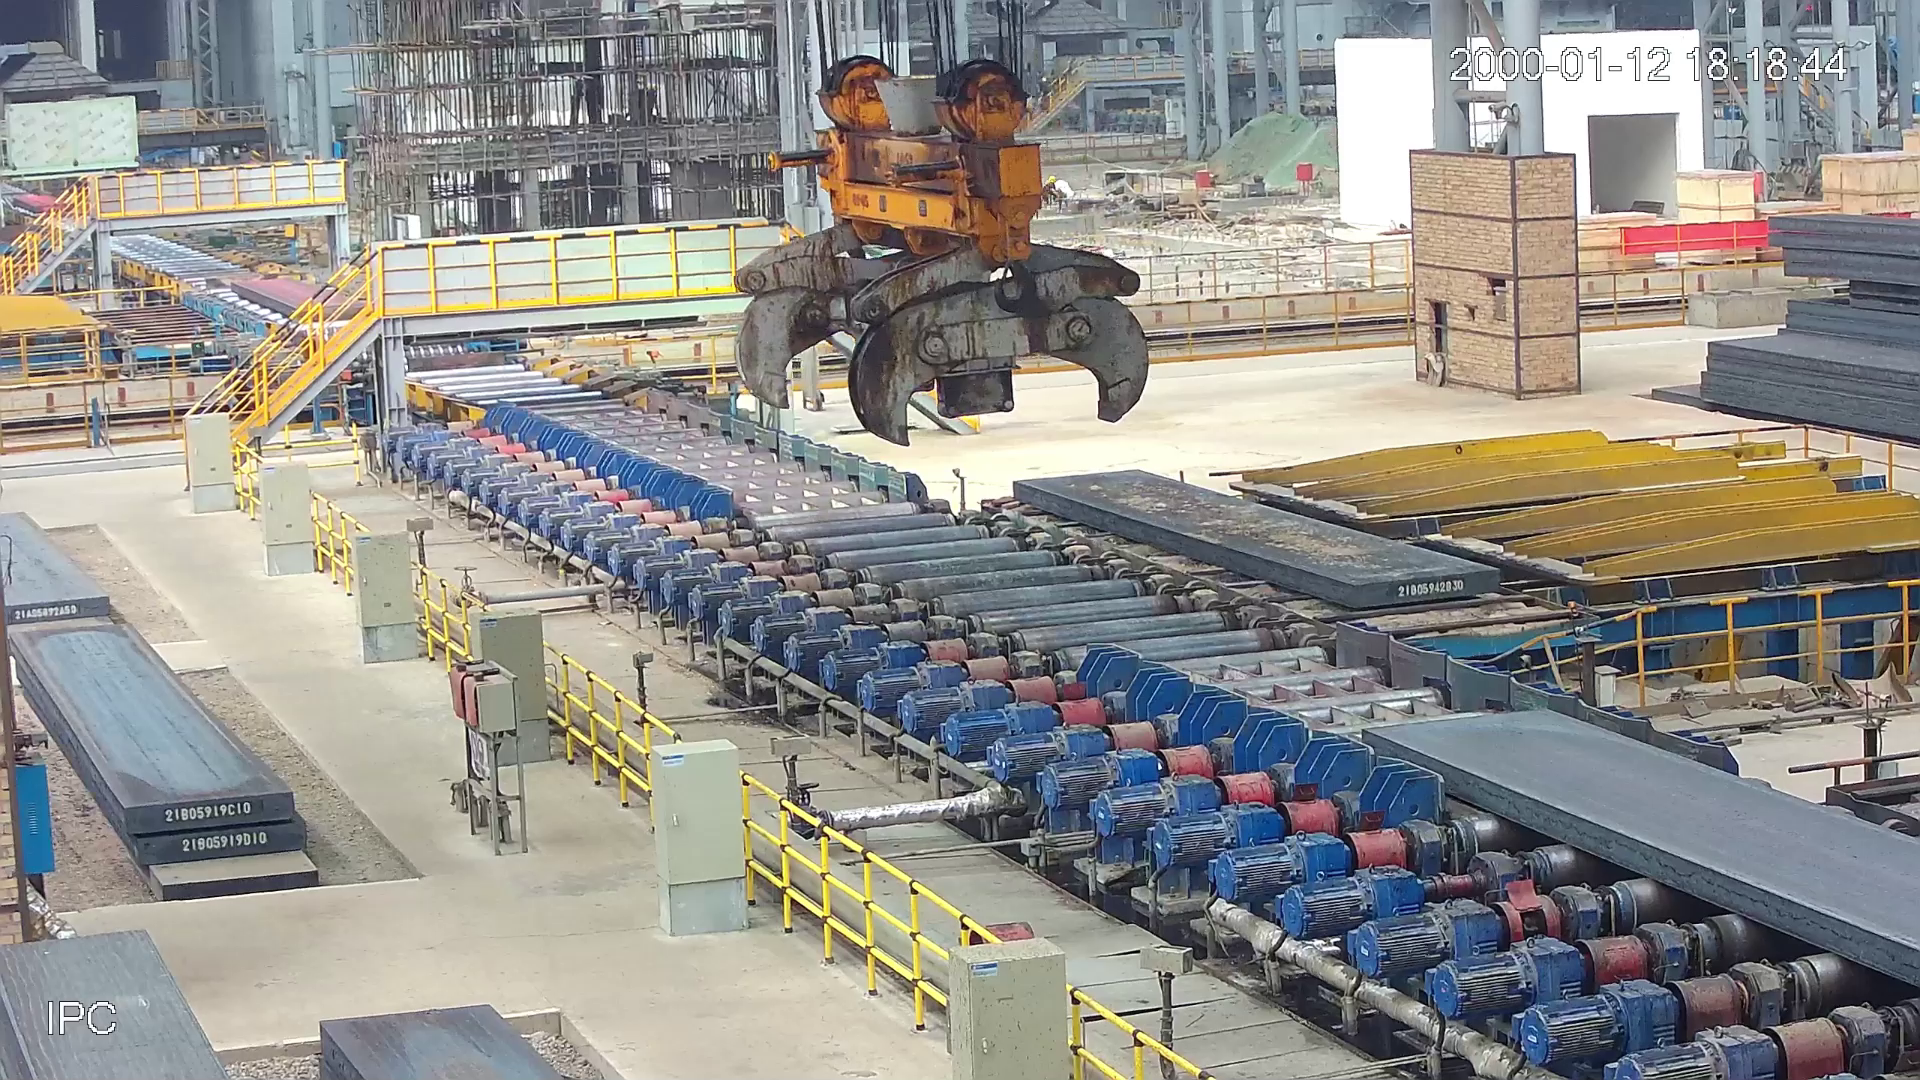crane: (727, 36, 1163, 444)
slab: (1352, 703, 1920, 989), (1002, 460, 1505, 611), (229, 277, 375, 323)
